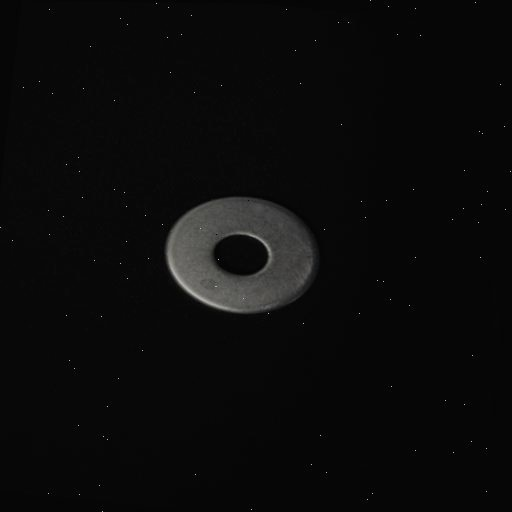Product: (165, 197, 320, 314)
Scratch: (283, 230, 324, 292), (251, 241, 278, 279)
